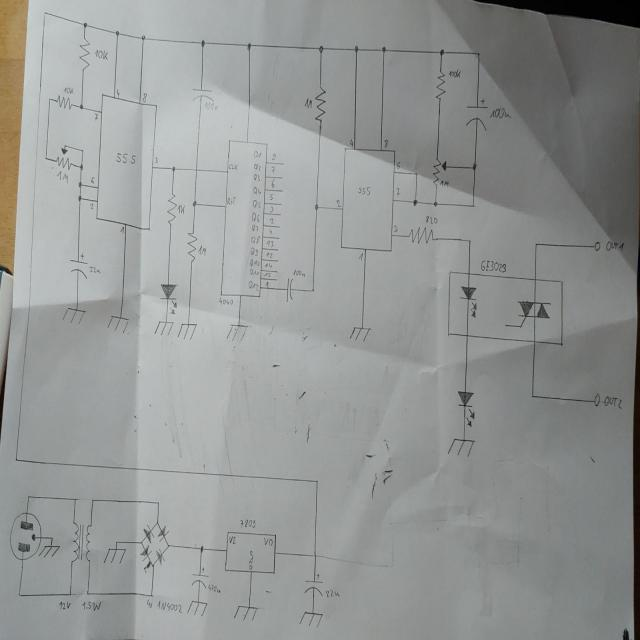capacitor: (465, 98, 488, 132), (302, 572, 324, 597), (69, 252, 88, 280), (190, 565, 209, 589), (190, 84, 214, 102), (285, 276, 294, 303)
crossover: (194, 165, 199, 173)
diode: (456, 389, 476, 427), (158, 282, 178, 315), (156, 524, 170, 543), (142, 524, 154, 544), (139, 544, 152, 561), (155, 546, 165, 566)
ground: (447, 436, 475, 458), (298, 609, 324, 628), (106, 313, 129, 334), (225, 324, 248, 344), (61, 305, 85, 324), (232, 604, 258, 621), (102, 547, 126, 565), (176, 322, 198, 340), (186, 598, 208, 616), (349, 325, 370, 341), (153, 320, 174, 336), (38, 544, 61, 558)
junction: (317, 43, 324, 53), (438, 47, 445, 56), (313, 201, 319, 211), (200, 38, 206, 48), (246, 42, 252, 52), (81, 20, 88, 28), (412, 198, 418, 206), (170, 164, 176, 172), (198, 544, 204, 552), (353, 44, 359, 52), (72, 496, 78, 504), (533, 240, 539, 248), (78, 102, 84, 110), (381, 44, 386, 53), (114, 29, 120, 36), (140, 34, 146, 41), (466, 237, 472, 244), (312, 552, 318, 559), (77, 194, 82, 202), (90, 496, 95, 504), (530, 392, 535, 400), (42, 9, 47, 17), (432, 200, 438, 206), (84, 590, 90, 596), (148, 591, 154, 597), (314, 477, 319, 484), (310, 286, 315, 293), (472, 162, 476, 170), (156, 498, 160, 506), (14, 455, 18, 463), (17, 591, 22, 597), (192, 199, 196, 206), (476, 50, 480, 57), (79, 163, 83, 170), (78, 180, 82, 187), (26, 493, 30, 500), (114, 539, 119, 544), (43, 154, 47, 160), (47, 96, 51, 102), (80, 147, 84, 153), (471, 202, 475, 208), (68, 591, 72, 597), (50, 534, 54, 540), (166, 542, 170, 548), (154, 520, 160, 524), (151, 562, 155, 568), (414, 171, 418, 175), (140, 540, 143, 545), (63, 143, 66, 147)
resistor: (407, 226, 435, 244), (431, 156, 447, 187), (314, 85, 326, 124), (55, 147, 72, 171), (78, 37, 90, 70), (186, 230, 197, 263), (435, 70, 446, 101), (166, 192, 176, 224), (55, 94, 72, 110)
terminal: (593, 392, 600, 407), (593, 240, 601, 251)
text: (479, 258, 506, 273), (156, 599, 183, 614), (600, 393, 622, 409), (80, 599, 102, 612), (490, 106, 510, 120), (115, 150, 135, 164), (605, 239, 625, 252), (356, 184, 372, 198), (94, 47, 108, 61), (325, 586, 341, 598), (447, 67, 462, 79), (56, 169, 68, 184), (207, 582, 222, 594), (203, 101, 219, 112), (218, 296, 234, 306), (240, 518, 256, 528), (292, 267, 306, 278), (247, 548, 254, 569), (425, 214, 438, 225), (58, 600, 72, 610), (175, 201, 185, 214), (88, 265, 102, 274), (248, 279, 258, 291), (62, 85, 74, 95), (252, 148, 262, 160), (250, 210, 260, 222), (198, 243, 206, 257), (263, 536, 273, 547), (252, 161, 262, 172), (249, 257, 260, 267), (439, 179, 449, 189), (250, 222, 260, 232), (249, 246, 259, 256), (226, 195, 235, 206), (252, 198, 261, 209), (304, 97, 312, 109), (228, 534, 237, 544), (252, 186, 261, 196), (250, 235, 260, 244), (228, 161, 236, 172), (141, 91, 148, 103), (384, 137, 391, 149), (334, 198, 342, 208), (252, 172, 260, 182), (249, 268, 259, 276), (395, 185, 401, 198), (264, 261, 273, 269), (146, 598, 153, 608), (357, 251, 364, 261), (266, 239, 274, 247), (88, 175, 95, 184), (265, 251, 274, 258), (114, 88, 120, 98), (392, 223, 398, 233), (270, 164, 275, 175), (348, 138, 354, 147), (270, 178, 275, 188), (395, 160, 401, 168), (270, 152, 276, 160), (264, 272, 272, 278), (264, 280, 270, 288), (269, 192, 274, 201), (268, 227, 273, 236), (154, 154, 158, 165), (269, 217, 275, 224), (94, 112, 98, 122), (119, 225, 124, 233), (269, 205, 274, 212), (90, 202, 94, 210)
transformer: (70, 520, 94, 562)
